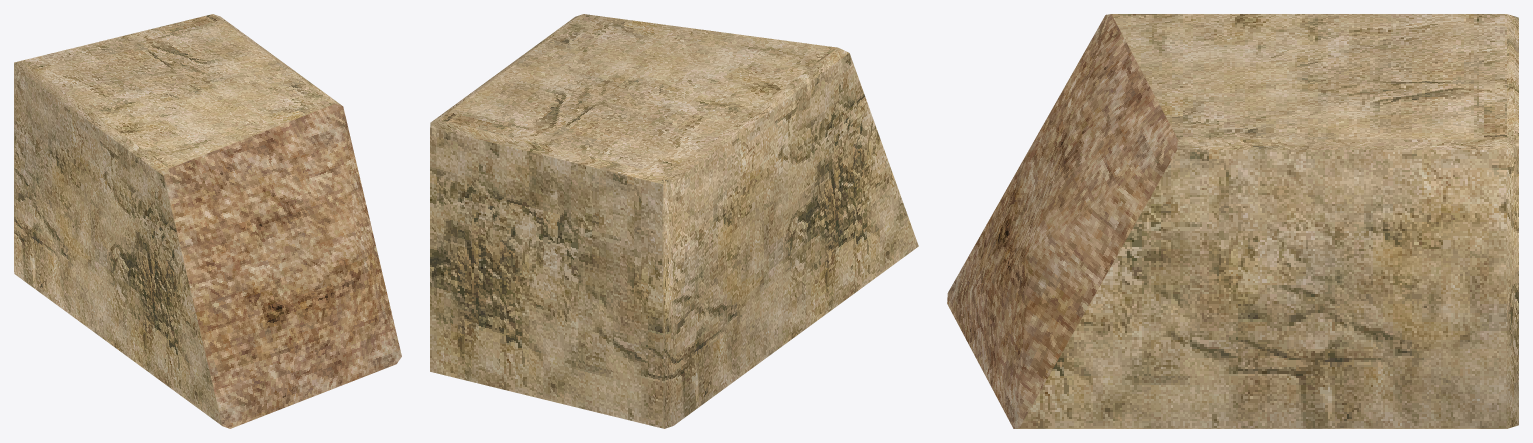
The model's file is stage-ruin-p2-495.glb.
The picture shows the model from 3 angles, left to right: view 1: azimuth 30°, elevation 25°; view 2: azimuth 150°, elevation 25°; view 3: azimuth 270°, elevation 25°; orthographic projection. The views are drawn at different scales.
Size of the model in its own units: 4.25 by 4.25 by 7.61.
2 materials, 2 textured.
